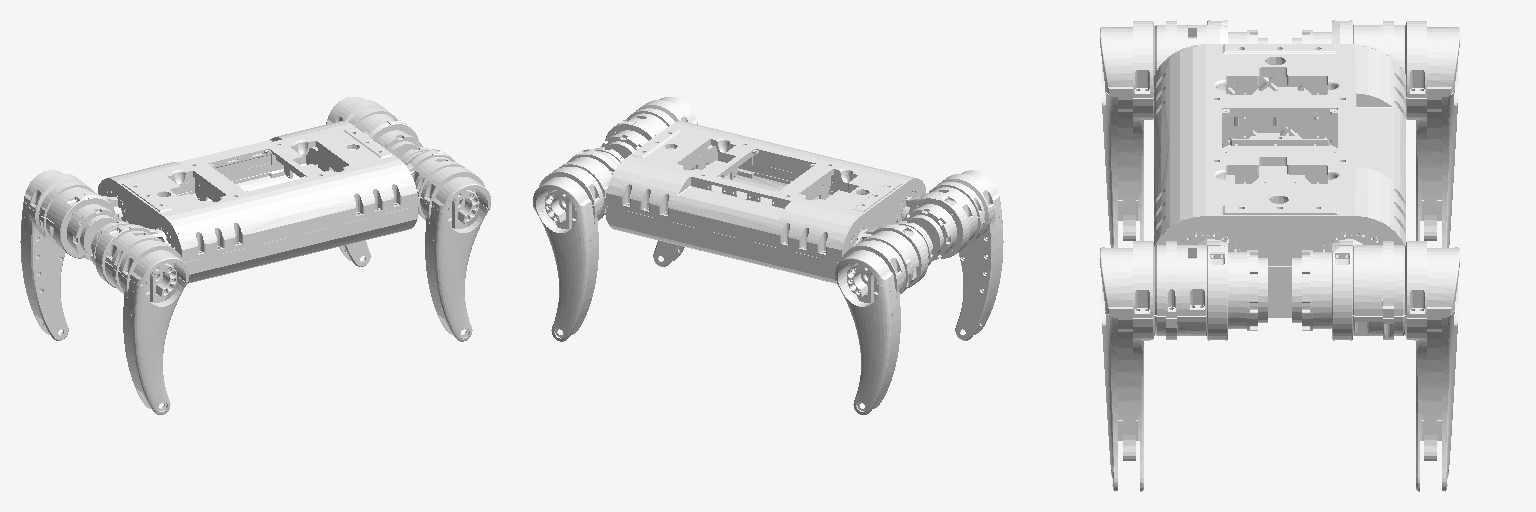
URDF robot description (RP_wd_pointfoot):
<?xml version='1.0' encoding='UTF-8'?>
<robot name="RP_wd_pointfoot">

    <link name="base_link">
      <visual>
        <origin xyz="0 0 0" rpy="0 0 0"/>
        <geometry>
          <mesh filename="../../RP_wd/urdf/meshes/base_link.STL"/>
        </geometry>
        <material name="base_link_visual_0">
          <color rgba="1.00000000 1.00000000 1.00000000 1.00000000"/>
        </material>
      </visual>
      <collision>
        <origin xyz="0 0 0" rpy="0 0 0"/>
        <geometry>
          <box size="0.42 0.26 0.12"/>
        </geometry>
      </collision>
      <inertial>
        <origin xyz="-0.0064993 -0.0009295 0.0021204" rpy="0 0 0"/>
        <mass value="7.4975959"/>
        <inertia ixx="0.0589761" ixy="0.0000143" ixz="0.000089" iyy="0.1812866" iyz="0.0004461" izz="0.2224493"/>
      </inertial>
    </link>

    <link name="LF_ABAD_LINK">
      <visual>
        <origin xyz="0 0 0" rpy="0 0 0"/>
        <geometry>
          <mesh filename="../../RP_wd/urdf/meshes/LF_ABAD_LINK.STL"/>
        </geometry>
        <material name="LF_ABAD_LINK_visual_0">
          <color rgba="1.00000000 1.00000000 1.00000000 1.00000000"/>
        </material>
      </visual>
      <collision>
        <origin xyz="0 -0.034 0" rpy="1.5707963 0 0"/>
        <geometry>
          <cylinder radius="0.048" length="0.064"/>
        </geometry>
      </collision>
      <inertial>
        <origin xyz="-0.0009598 -0.0317346 0" rpy="0 0 0"/>
        <mass value="0.8603295"/>
        <inertia ixx="0.0006379" ixy="0.0000452" ixz="0" iyy="0.0007923" iyz="0" izz="0.0006889"/>
      </inertial>
    </link>

    <link name="LF_HIP_LINK">
      <visual>
        <origin xyz="0 0 0" rpy="0 0 0"/>
        <geometry>
          <mesh filename="../../RP_wd/urdf/meshes/LF_HIP_LINK.STL"/>
        </geometry>
        <material name="LF_HIP_LINK_visual_0">
          <color rgba="1.00000000 1.00000000 1.00000000 1.00000000"/>
        </material>
      </visual>
      <collision>
        <origin xyz="0 -0.014 0" rpy="1.5707963 0 0"/>
        <geometry>
          <cylinder radius="0.048" length="0.11"/>
        </geometry>
      </collision>
      <collision>
        <origin xyz="-0.02 0.016 -0.12" rpy="1.5707963 0 0"/>
        <geometry>
          <box size="0.06 0.14 0.04"/>
        </geometry>
      </collision>
      <inertial>
        <origin xyz="-0.0028159 -0.0294115 -0.0241435" rpy="0 0 0"/>
        <mass value="1.3307055"/>
        <inertia ixx="0.0057683" ixy="0.0001375" ixz="-0.0003075" iyy="0.0055296" iyz="0.000976" izz="0.0015633"/>
      </inertial>
    </link>

    <link name="LF_KENN_LINK">
      <visual>
        <origin xyz="0 0 0" rpy="0 0 0"/>
        <geometry>
          <mesh filename="meshes/go2_calf.dae"/>
        </geometry>
        <material name="LF_KENN_LINK_visual_0">
          <color rgba="1.00000000 1.00000000 1.00000000 1.00000000"/>
        </material>
      </visual>
      <collision>
        <origin xyz="0.008 0 -0.06" rpy="0 -0.21 0"/>
        <geometry>
          <cylinder length="0.12" radius="0.012"/>
        </geometry>
      </collision>
      <collision>
        <origin xyz="0.020 0 -0.148" rpy="0 0.05 0"/>
        <geometry>
          <cylinder length="0.065" radius="0.011"/>
        </geometry>
      </collision>
      <collision>
        <origin xyz="0.008 0 -0.18745" rpy="0 0.53 0"/>
        <geometry>
          <cylinder length="0.03" radius="0.0155"/>
        </geometry>
      </collision>
      <inertial>
        <origin xyz="0.00548 -0.000975 -0.115" rpy="0 0 0"/>
        <mass value="0.154"/>
        <inertia ixx="0.00108" ixy="3.4E-07" ixz="1.72E-05" iyy="0.0011" iyz="8.28E-06" izz="3.29E-05"/>
      </inertial>
    </link>

    <link name="LF_FOOT_LINK">
    <inertial>
      <origin xyz="0 0 0" rpy="0 0 0"/>
      <mass value="0.04"/>
      <inertia ixx="9.6e-06" ixy="0" ixz="0" iyy="9.6e-06" iyz="0" izz="9.6e-06"/>
    </inertial>
    <visual>
      <origin xyz="0 0 0" rpy="0 0 0"/>
      <geometry>
        <mesh filename="meshes/go2_point_foot.dae"/>
      </geometry>
      <material name="go2_point_foot">
        <color rgba="0.16 0.17 0.19 1"/>
      </material>
    </visual>
    <collision>
      <origin rpy="0 0 0" xyz="-0.002 0 0"/>
      <geometry>
        <sphere radius="0.022"/>
      </geometry>
    </collision>
  </link>
  <link name="RF_ABAD_LINK">
      <visual>
        <origin xyz="0 0 0" rpy="0 0 0"/>
        <geometry>
          <mesh filename="../../RP_wd/urdf/meshes/RF_ABAD_LINK.STL"/>
        </geometry>
        <material name="RF_ABAD_LINK_visual_0">
          <color rgba="1.00000000 1.00000000 1.00000000 1.00000000"/>
        </material>
      </visual>
      <collision>
        <origin xyz="0 0.034 0" rpy="-1.5707963 0 0"/>
        <geometry>
          <cylinder radius="0.048" length="0.064"/>
        </geometry>
      </collision>
      <inertial>
        <origin xyz="-0.0009598 0.0317346 0" rpy="0 0 0"/>
        <mass value="0.8603295"/>
        <inertia ixx="0.0006379" ixy="-0.0000452" ixz="0" iyy="0.0007923" iyz="0" izz="0.0006889"/>
      </inertial>
    </link>

    <link name="RF_HIP_LINK">
      <visual>
        <origin xyz="0 0 0" rpy="0 0 0"/>
        <geometry>
          <mesh filename="../../RP_wd/urdf/meshes/RF_HIP_LINK.STL"/>
        </geometry>
        <material name="RF_HIP_LINK_visual_0">
          <color rgba="1.00000000 1.00000000 1.00000000 1.00000000"/>
        </material>
      </visual>
      <collision>
        <origin xyz="0 0.014 0" rpy="-1.5707963 0 0"/>
        <geometry>
          <cylinder radius="0.048" length="0.11"/>
        </geometry>
      </collision>
      <collision>
        <origin xyz="-0.02 -0.016 -0.12" rpy="-1.5707963 0 0"/>
        <geometry>
          <box size="0.06 0.14 0.04"/>
        </geometry>
      </collision>
      <inertial>
        <origin xyz="-0.0028159 0.0294115 -0.0241435" rpy="0 0 0"/>
        <mass value="1.3307055"/>
        <inertia ixx="0.0057683" ixy="-0.0001375" ixz="-0.0003075" iyy="0.0055296" iyz="-0.000976" izz="0.0015633"/>
      </inertial>
    </link>

    <link name="RF_KENN_LINK">
      <visual>
        <origin xyz="0 0 0" rpy="0 0 0"/>
        <geometry>
          <mesh filename="meshes/go2_calf_mirror.dae"/>
        </geometry>
        <material name="RF_KENN_LINK_visual_0">
          <color rgba="1.00000000 1.00000000 1.00000000 1.00000000"/>
        </material>
      </visual>
      <collision>
        <origin xyz="0.01 0 -0.06" rpy="0 -0.2 0"/>
        <geometry>
          <cylinder length="0.12" radius="0.013"/>
        </geometry>
      </collision>
      <collision>
        <origin xyz="0.020 0 -0.148" rpy="0 0.05 0"/>
        <geometry>
          <cylinder length="0.065" radius="0.011"/>
        </geometry>
      </collision>
      <collision>
        <origin xyz="0.008 0 -0.18745" rpy="0 0.53 0"/>
        <geometry>
          <cylinder length="0.03" radius="0.0155"/>
        </geometry>
      </collision>
      <inertial>
        <origin xyz="0.00548 0.000975 -0.115" rpy="0 0 0"/>
        <mass value="0.154"/>
        <inertia ixx="0.00108" ixy="-3.4E-07" ixz="1.72E-05" iyy="0.0011" iyz="-8.28E-06" izz="3.29E-05"/>
      </inertial>
    </link>

    <link name="RF_FOOT_LINK">
    <inertial>
      <origin xyz="0 0 0" rpy="0 0 0"/>
      <mass value="0.04"/>
      <inertia ixx="9.6e-06" ixy="0" ixz="0" iyy="9.6e-06" iyz="0" izz="9.6e-06"/>
    </inertial>
    <visual>
      <origin xyz="0 0 0" rpy="0 0 0"/>
      <geometry>
        <mesh filename="meshes/go2_point_foot.dae"/>
      </geometry>
      <material name="go2_point_foot">
        <color rgba="0.16 0.17 0.19 1"/>
      </material>
    </visual>
    <collision>
      <origin rpy="0 0 0" xyz="-0.002 0 0"/>
      <geometry>
        <sphere radius="0.022"/>
      </geometry>
    </collision>
  </link>
  <link name="LB_ABAD_LINK">
      <visual>
        <origin xyz="0 0 0" rpy="0 0 0"/>
        <geometry>
          <mesh filename="../../RP_wd/urdf/meshes/LB_ABAD_LINK.STL"/>
        </geometry>
        <material name="LB_ABAD_LINK_visual_0">
          <color rgba="1.00000000 1.00000000 1.00000000 1.00000000"/>
        </material>
      </visual>
      <collision>
        <origin xyz="0 -0.034 0" rpy="1.5707963 0 0"/>
        <geometry>
          <cylinder radius="0.048" length="0.064"/>
        </geometry>
      </collision>
      <inertial>
        <origin xyz="0.0009598 -0.0317346 0" rpy="0 0 0"/>
        <mass value="0.8603295"/>
        <inertia ixx="0.0006379" ixy="-0.0000452" ixz="0" iyy="0.0007923" iyz="0" izz="0.0006889"/>
      </inertial>
    </link>

    <link name="LB_HIP_LINK">
      <visual>
        <origin xyz="0 0 0" rpy="0 0 0"/>
        <geometry>
          <mesh filename="../../RP_wd/urdf/meshes/LB_HIP_LINK.STL"/>
        </geometry>
        <material name="LB_HIP_LINK_visual_0">
          <color rgba="1.00000000 1.00000000 1.00000000 1.00000000"/>
        </material>
      </visual>
      <collision>
        <origin xyz="0 -0.014 0" rpy="1.5707963 0 0"/>
        <geometry>
          <cylinder radius="0.048" length="0.11"/>
        </geometry>
      </collision>
      <collision>
        <origin xyz="-0.02 0.016 -0.12" rpy="1.5707963 0 0"/>
        <geometry>
          <box size="0.06 0.14 0.040001"/>
        </geometry>
      </collision>
      <inertial>
        <origin xyz="-0.0027582 -0.0294115 -0.0240635" rpy="0 0 0"/>
        <mass value="1.3307055"/>
        <inertia ixx="0.0057764" ixy="0.0001403" ixz="-0.0003087" iyy="0.0055352" iyz="0.0009799" izz="0.0015608"/>
      </inertial>
    </link>

    <link name="LB_KENN_LINK">
      <visual>
        <origin xyz="0 0 0" rpy="0 0 0"/>
        <geometry>
          <mesh filename="meshes/go2_calf.dae"/>
        </geometry>
        <material name="LB_KENN_LINK_visual_0">
          <color rgba="1.00000000 1.00000000 1.00000000 1.00000000"/>
        </material>
      </visual>
      <collision>
        <origin xyz="0.008 0 -0.06" rpy="0 -0.21 0"/>
        <geometry>
          <cylinder length="0.12" radius="0.012"/>
        </geometry>
      </collision>
      <collision>
        <origin xyz="0.020 0 -0.148" rpy="0 0.05 0"/>
        <geometry>
          <cylinder length="0.065" radius="0.011"/>
        </geometry>
      </collision>
      <collision>
        <origin xyz="0.008 0 -0.18745" rpy="0 0.53 0"/>
        <geometry>
          <cylinder length="0.03" radius="0.0155"/>
        </geometry>
      </collision>
      <inertial>
        <origin xyz="0.00548 -0.000975 -0.115" rpy="0 0 0"/>
        <mass value="0.154"/>
        <inertia ixx="0.00108" ixy="3.4E-07" ixz="1.72E-05" iyy="0.0011" iyz="8.28E-06" izz="3.29E-05"/>
      </inertial>
    </link>

    <link name="LB_FOOT_LINK">
    <inertial>
      <origin xyz="0 0 0" rpy="0 0 0"/>
      <mass value="0.04"/>
      <inertia ixx="9.6e-06" ixy="0" ixz="0" iyy="9.6e-06" iyz="0" izz="9.6e-06"/>
    </inertial>
    <visual>
      <origin xyz="0 0 0" rpy="0 0 0"/>
      <geometry>
        <mesh filename="meshes/go2_point_foot.dae"/>
      </geometry>
      <material name="go2_point_foot">
        <color rgba="0.16 0.17 0.19 1"/>
      </material>
    </visual>
    <collision>
      <origin rpy="0 0 0" xyz="-0.002 0 0"/>
      <geometry>
        <sphere radius="0.022"/>
      </geometry>
    </collision>
  </link>
  <link name="RB_ABAD_LINK">
      <visual>
        <origin xyz="0 0 0" rpy="0 0 0"/>
        <geometry>
          <mesh filename="../../RP_wd/urdf/meshes/RB_ABAD_LINK.STL"/>
        </geometry>
        <material name="RB_ABAD_LINK_visual_0">
          <color rgba="1.00000000 1.00000000 1.00000000 1.00000000"/>
        </material>
      </visual>
      <collision>
        <origin xyz="0 0.034 0" rpy="-1.5707963 0 0"/>
        <geometry>
          <cylinder radius="0.048" length="0.064"/>
        </geometry>
      </collision>
      <inertial>
        <origin xyz="0.0009598 0.0317346 0" rpy="0 0 0"/>
        <mass value="0.8603295"/>
        <inertia ixx="0.0006379" ixy="0.0000452" ixz="0" iyy="0.0007923" iyz="0" izz="0.0006889"/>
      </inertial>
    </link>

    <link name="RB_HIP_LINK">
      <visual>
        <origin xyz="0 0 0" rpy="0 0 0"/>
        <geometry>
          <mesh filename="../../RP_wd/urdf/meshes/RB_HIP_LINK.STL"/>
        </geometry>
        <material name="RB_HIP_LINK_visual_0">
          <color rgba="1.00000000 1.00000000 1.00000000 1.00000000"/>
        </material>
      </visual>
      <collision>
        <origin xyz="0 0.014 0" rpy="-1.5707963 0 0"/>
        <geometry>
          <cylinder radius="0.048" length="0.11"/>
        </geometry>
      </collision>
      <collision>
        <origin xyz="-0.02 -0.016 -0.12" rpy="-1.5707963 0 0"/>
        <geometry>
          <box size="0.06 0.14 0.040001"/>
        </geometry>
      </collision>
      <inertial>
        <origin xyz="-0.0027582 0.0294115 -0.0240635" rpy="0 0 0"/>
        <mass value="1.3307055"/>
        <inertia ixx="0.0057764" ixy="-0.0001403" ixz="-0.0003087" iyy="0.0055352" iyz="-0.0009799" izz="0.0015608"/>
      </inertial>
    </link>

    <link name="RB_KENN_LINK">
      <visual>
        <origin xyz="0 0 0" rpy="0 0 0"/>
        <geometry>
          <mesh filename="meshes/go2_calf_mirror.dae"/>
        </geometry>
        <material name="RB_KENN_LINK_visual_0">
          <color rgba="1.00000000 1.00000000 1.00000000 1.00000000"/>
        </material>
      </visual>
      <collision>
        <origin xyz="0.01 0 -0.06" rpy="0 -0.2 0"/>
        <geometry>
          <cylinder length="0.12" radius="0.013"/>
        </geometry>
      </collision>
      <collision>
        <origin xyz="0.020 0 -0.148" rpy="0 0.05 0"/>
        <geometry>
          <cylinder length="0.065" radius="0.011"/>
        </geometry>
      </collision>
      <collision>
        <origin xyz="0.008 0 -0.18745" rpy="0 0.53 0"/>
        <geometry>
          <cylinder length="0.03" radius="0.0155"/>
        </geometry>
      </collision>
      <inertial>
        <origin xyz="0.00548 0.000975 -0.115" rpy="0 0 0"/>
        <mass value="0.154"/>
        <inertia ixx="0.00108" ixy="-3.4E-07" ixz="1.72E-05" iyy="0.0011" iyz="-8.28E-06" izz="3.29E-05"/>
      </inertial>
    </link>

    <link name="RB_FOOT_LINK">
    <inertial>
      <origin xyz="0 0 0" rpy="0 0 0"/>
      <mass value="0.04"/>
      <inertia ixx="9.6e-06" ixy="0" ixz="0" iyy="9.6e-06" iyz="0" izz="9.6e-06"/>
    </inertial>
    <visual>
      <origin xyz="0 0 0" rpy="0 0 0"/>
      <geometry>
        <mesh filename="meshes/go2_point_foot.dae"/>
      </geometry>
      <material name="go2_point_foot">
        <color rgba="0.16 0.17 0.19 1"/>
      </material>
    </visual>
    <collision>
      <origin rpy="0 0 0" xyz="-0.002 0 0"/>
      <geometry>
        <sphere radius="0.022"/>
      </geometry>
    </collision>
  </link>
  <joint name="LF_ABAD_JOINT" type="revolute">
    <parent link="base_link"/>
    <child link="LF_ABAD_LINK"/>
    <origin xyz="0.26915 0.07715 0.007" rpy="0 0 0"/>
    <axis xyz="1 0 0"/>
    <limit lower="-1" upper="1" effort="42" velocity="10.472"/>
  </joint>

  <joint name="LF_HIP_JOINT" type="revolute">
    <parent link="LF_ABAD_LINK"/>
    <child link="LF_HIP_LINK"/>
    <origin xyz="0 0.0674 0" rpy="0 0 0"/>
    <axis xyz="0 1 0"/>
    <limit lower="-1.57" upper="3.49" effort="42" velocity="10.472"/>
  </joint>

  <joint name="LF_KENN_JOINT" type="revolute">
    <parent link="LF_HIP_LINK"/>
    <child link="LF_KENN_LINK"/>
    <origin xyz="0 0.011764 -0.2125" rpy="0 0 0"/>
    <axis xyz="0 1 0"/>
    <limit lower="-2.7" upper="-0.83" effort="42" velocity="10.472"/>
  </joint>

  <joint name="LF_FOOT_FIXED_JOINT" type="fixed">
    <parent link="LF_KENN_LINK"/>
    <child link="LF_FOOT_LINK"/>
    <origin xyz="0 0 -0.213" rpy="0 0 0"/>
  </joint>

  <joint name="RF_ABAD_JOINT" type="revolute">
    <parent link="base_link"/>
    <child link="RF_ABAD_LINK"/>
    <origin xyz="0.26915 -0.07715 0.007" rpy="0 0 0"/>
    <axis xyz="1 0 0"/>
    <limit lower="-1" upper="1" effort="42" velocity="10.472"/>
  </joint>

  <joint name="RF_HIP_JOINT" type="revolute">
    <parent link="RF_ABAD_LINK"/>
    <child link="RF_HIP_LINK"/>
    <origin xyz="0 -0.0674 0" rpy="0 0 0"/>
    <axis xyz="0 1 0"/>
    <limit lower="-1.57" upper="3.49" effort="42" velocity="10.472"/>
  </joint>

  <joint name="RF_KENN_JOINT" type="revolute">
    <parent link="RF_HIP_LINK"/>
    <child link="RF_KENN_LINK"/>
    <origin xyz="0 -0.011764 -0.2125" rpy="0 0 0"/>
    <axis xyz="0 1 0"/>
    <limit lower="-2.7" upper="-0.83" effort="42" velocity="10.472"/>
  </joint>

  <joint name="RF_FOOT_FIXED_JOINT" type="fixed">
    <parent link="RF_KENN_LINK"/>
    <child link="RF_FOOT_LINK"/>
    <origin xyz="0 0 -0.213" rpy="0 0 0"/>
  </joint>

  <joint name="LB_ABAD_JOINT" type="revolute">
    <parent link="base_link"/>
    <child link="LB_ABAD_LINK"/>
    <origin xyz="-0.26885 0.07715 0.007" rpy="0 0 0"/>
    <axis xyz="1 0 0"/>
    <limit lower="-1" upper="1" effort="42" velocity="10.472"/>
  </joint>

  <joint name="LB_HIP_JOINT" type="revolute">
    <parent link="LB_ABAD_LINK"/>
    <child link="LB_HIP_LINK"/>
    <origin xyz="0 0.0674 0" rpy="0 0 0"/>
    <axis xyz="0 1 0"/>
    <limit lower="-1.57" upper="3.49" effort="42" velocity="10.472"/>
  </joint>

  <joint name="LB_KENN_JOINT" type="revolute">
    <parent link="LB_HIP_LINK"/>
    <child link="LB_KENN_LINK"/>
    <origin xyz="0 0.011764 -0.2125" rpy="0 0 0"/>
    <axis xyz="0 1 0"/>
    <limit lower="-2.7" upper="-0.83" effort="42" velocity="10.472"/>
  </joint>

  <joint name="LB_FOOT_FIXED_JOINT" type="fixed">
    <parent link="LB_KENN_LINK"/>
    <child link="LB_FOOT_LINK"/>
    <origin xyz="0 0 -0.213" rpy="0 0 0"/>
  </joint>

  <joint name="RB_ABAD_JOINT" type="revolute">
    <parent link="base_link"/>
    <child link="RB_ABAD_LINK"/>
    <origin xyz="-0.26885 -0.07715 0.007" rpy="0 0 0"/>
    <axis xyz="1 0 0"/>
    <limit lower="-1" upper="1" effort="42" velocity="10.472"/>
  </joint>

  <joint name="RB_HIP_JOINT" type="revolute">
    <parent link="RB_ABAD_LINK"/>
    <child link="RB_HIP_LINK"/>
    <origin xyz="0 -0.0674 0" rpy="0 0 0"/>
    <axis xyz="0 1 0"/>
    <limit lower="-1.57" upper="3.49" effort="42" velocity="10.472"/>
  </joint>

  <joint name="RB_KENN_JOINT" type="revolute">
    <parent link="RB_HIP_LINK"/>
    <child link="RB_KENN_LINK"/>
    <origin xyz="0 -0.011764 -0.2125" rpy="0 0 0"/>
    <axis xyz="0 1 0"/>
    <limit lower="-2.7" upper="-0.83" effort="42" velocity="10.472"/>
  </joint>

  <joint name="RB_FOOT_FIXED_JOINT" type="fixed">
    <parent link="RB_KENN_LINK"/>
    <child link="RB_FOOT_LINK"/>
    <origin xyz="0 0 -0.213" rpy="0 0 0"/>
  </joint>
</robot>

--- What the picture shows (computed from the rendered views, not written in the file) ---
Views: 3 orthographic renders of the robot side by side, from view 1: azimuth 30°, elevation 25°; view 2: azimuth 150°, elevation 25°; view 3: azimuth 270°, elevation 25°.
Robot: RP_wd_pointfoot — 17 links, 16 joints (12 revolute, 4 fixed); root link base_link; default pose: joints at zero except 4 at the middle of their limits (LF_KENN_JOINT = -1.76, RF_KENN_JOINT = -1.76, LB_KENN_JOINT = -1.76, RB_KENN_JOINT = -1.76).
Visible links, largest first — view 1: base_link, RB_HIP_LINK, RF_HIP_LINK, LB_HIP_LINK, LB_ABAD_LINK, LF_HIP_LINK, LF_ABAD_LINK, RB_ABAD_LINK, RF_ABAD_LINK; view 2: base_link, LB_HIP_LINK, LF_HIP_LINK, RB_HIP_LINK, RB_ABAD_LINK, RF_HIP_LINK, RF_ABAD_LINK, LB_ABAD_LINK, LF_ABAD_LINK; view 3: base_link, RF_HIP_LINK, LF_HIP_LINK, RB_HIP_LINK, LB_HIP_LINK, LF_ABAD_LINK, RF_ABAD_LINK, LB_ABAD_LINK, RB_ABAD_LINK.
Link boxes in pixels (bbox=[...]): base_link: bbox=[98, 121, 417, 283]; RB_HIP_LINK: bbox=[105, 231, 189, 414]; RF_HIP_LINK: bbox=[412, 157, 490, 341]; LB_HIP_LINK: bbox=[20, 170, 94, 340]; LB_ABAD_LINK: bbox=[54, 192, 122, 260]; LF_HIP_LINK: bbox=[326, 97, 396, 266]; LF_ABAD_LINK: bbox=[363, 119, 422, 158]; RB_ABAD_LINK: bbox=[91, 221, 170, 287]; RF_ABAD_LINK: bbox=[400, 147, 456, 214]; base_link: bbox=[606, 121, 925, 283]; LB_HIP_LINK: bbox=[834, 231, 918, 414]; LF_HIP_LINK: bbox=[533, 157, 611, 341]; RB_HIP_LINK: bbox=[929, 170, 1003, 340]; RB_ABAD_LINK: bbox=[901, 192, 969, 260]; RF_HIP_LINK: bbox=[627, 97, 697, 266]; RF_ABAD_LINK: bbox=[601, 119, 660, 158]; LB_ABAD_LINK: bbox=[853, 221, 932, 287]; LF_ABAD_LINK: bbox=[567, 147, 623, 214]; base_link: bbox=[1154, 44, 1405, 317]; RF_HIP_LINK: bbox=[1100, 241, 1206, 491]; LF_HIP_LINK: bbox=[1353, 241, 1459, 491]; RB_HIP_LINK: bbox=[1100, 21, 1206, 247]; LB_HIP_LINK: bbox=[1353, 21, 1459, 247]; LF_ABAD_LINK: bbox=[1292, 239, 1362, 340]; RF_ABAD_LINK: bbox=[1197, 239, 1267, 340]; LB_ABAD_LINK: bbox=[1292, 20, 1352, 43]; RB_ABAD_LINK: bbox=[1207, 20, 1267, 43].
Bounding box of the posed robot: 0.643 × 0.3725 × 0.287 m (x, y, z).
9 mesh visuals loaded from 12 distinct referenced files (9 binary STL); not drawn: 8 (reference not matched to a file when rendering).
